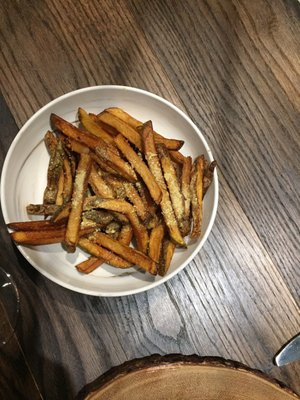sushi: (1, 63, 220, 298)
